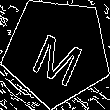M_NE: (26, 19, 87, 83)
